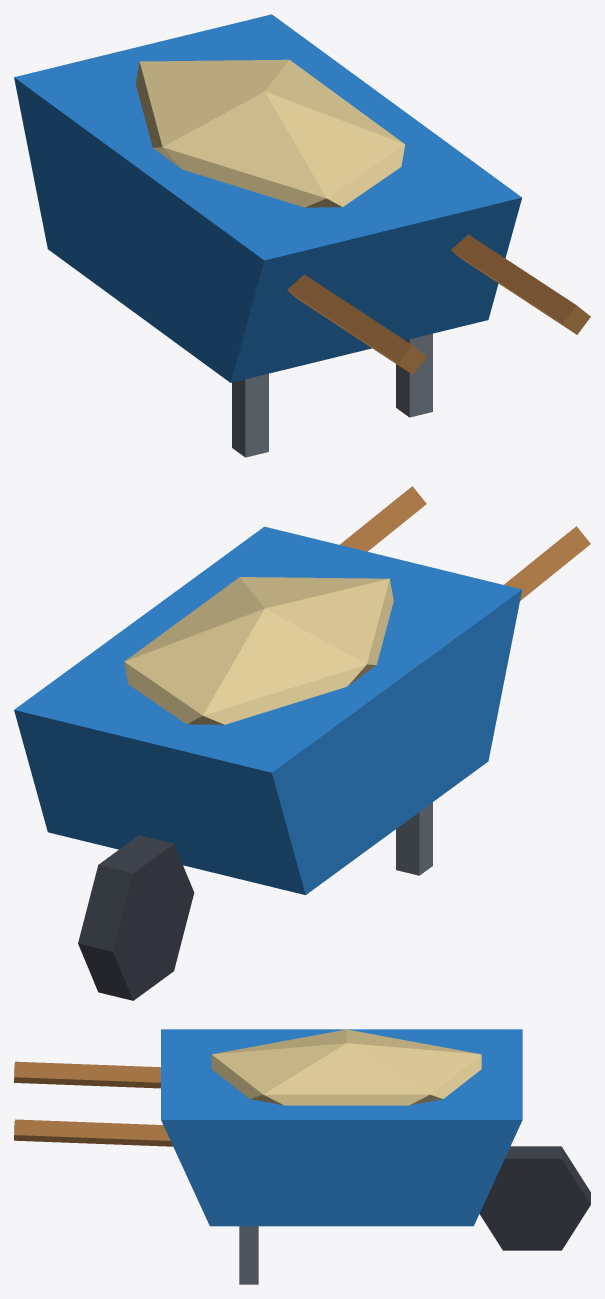
File: carrinho_mao.glb
The picture shows the model from 3 angles, top to bottom: view 1: azimuth 30°, elevation 25°; view 2: azimuth 150°, elevation 25°; view 3: azimuth 270°, elevation 25°; orthographic projection. The views are drawn at different scales.
Visible parts, largest first — view 1: corpo; view 2: corpo; view 3: corpo.
Part boxes in pixels (x1=…): corpo: x1=14, y1=14, x2=590, y2=457; corpo: x1=14, y1=486, x2=590, y2=1000; corpo: x1=14, y1=1029, x2=590, y2=1284.
Bounding box in the file's own units: 0.22 × 0.2355 × 0.5905.
